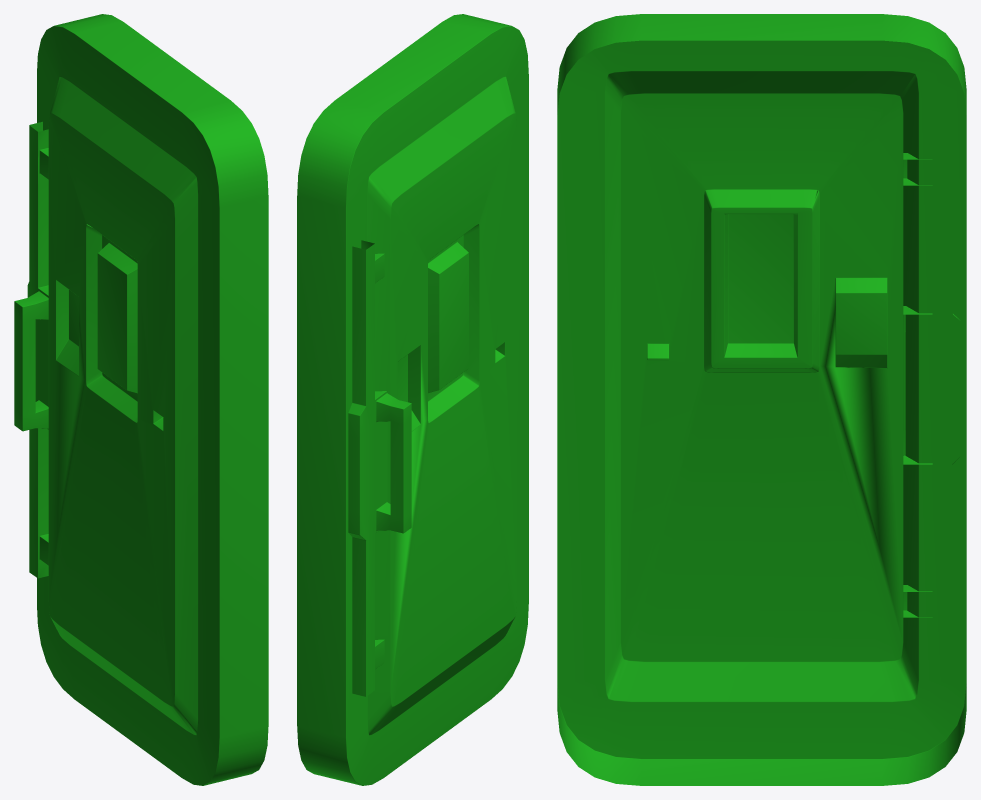
File: DoorVentilateur.fbx
3 renders of one model, left to right at view 1: azimuth 30°, elevation 25°; view 2: azimuth 150°, elevation 25°; view 3: azimuth 270°, elevation 25°, orthographic. The views are drawn at different scales.
Visible parts, largest first — view 1: Door_Lp001; view 2: Door_Lp001; view 3: Door_Lp001.
Boxes of the visible parts, left/top/right/bottom form: Door_Lp001: left=14, top=14, right=268, bottom=785; Door_Lp001: left=297, top=14, right=528, bottom=785; Door_Lp001: left=557, top=14, right=966, bottom=785.
Bounding box in the file's own units: 4.29 × 30.71 × 15.29.
